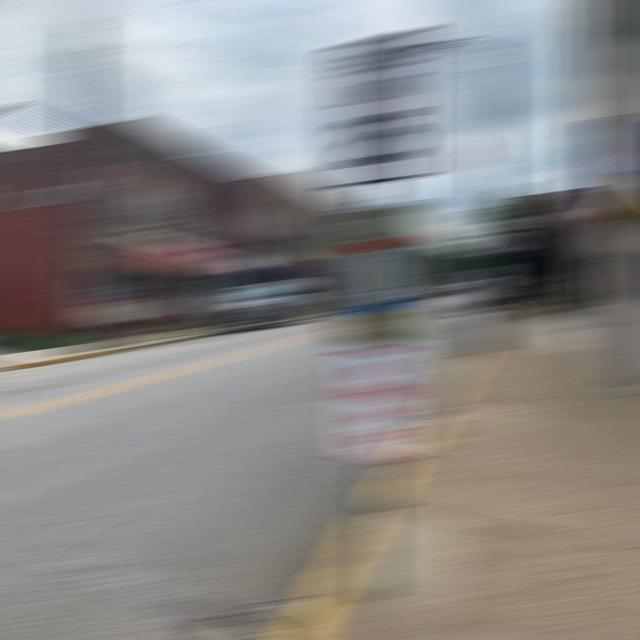speedLimit25: (333, 51, 427, 178)
